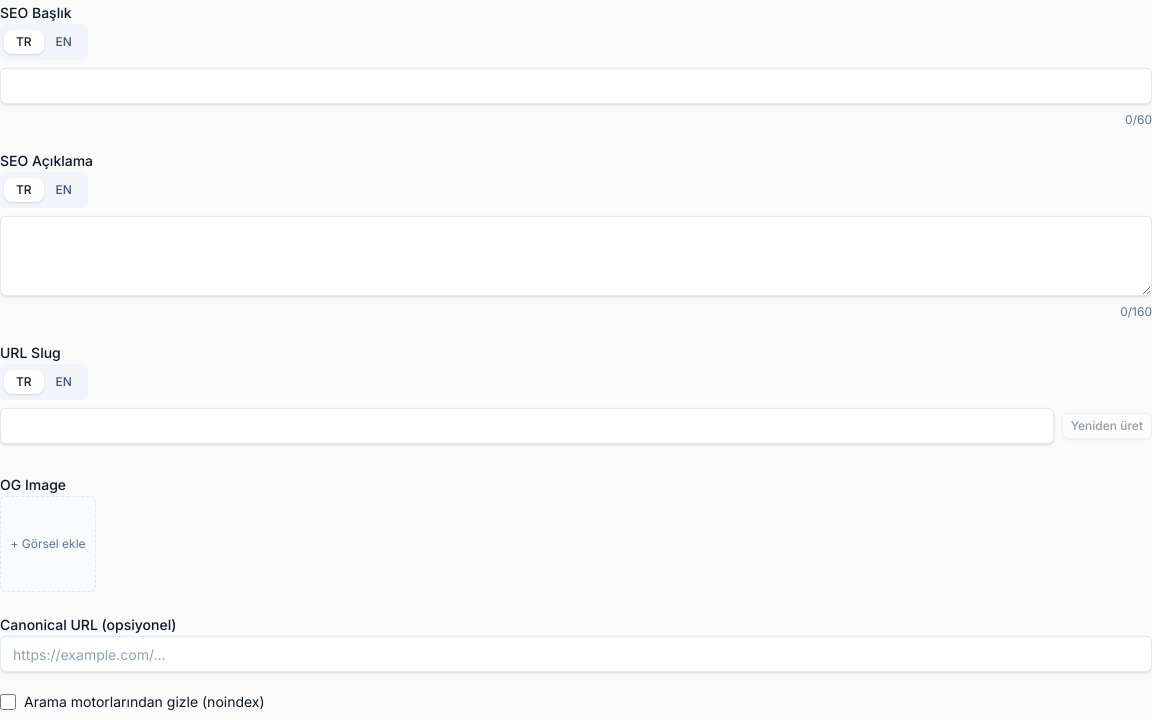
Scenario: SeoFields › 6. Noindex toggle → value update
Click the checkbox labelled "Arama motorlarından gizle (noindex)" at coordinates (8, 702), box [0,694,16,710]
(page scrolled)
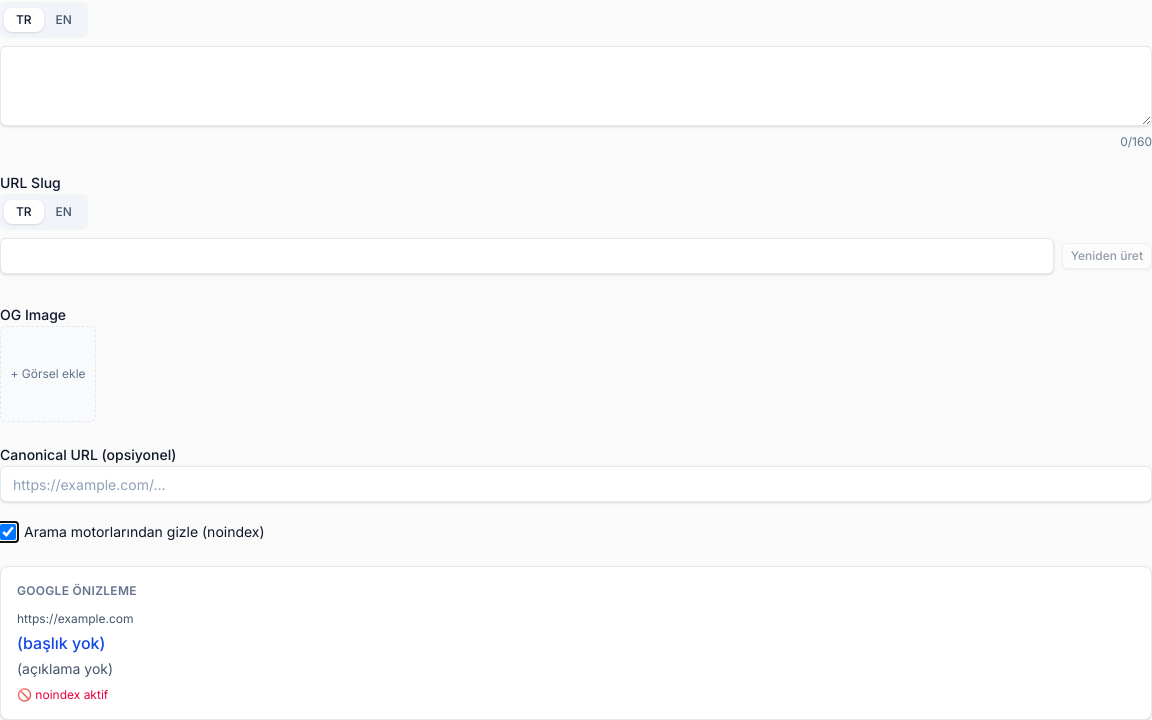
Now the checkbox labelled "Arama motorlarından gizle (noindex)" is checked, box [0,524,16,540]
Now the element named "Google arama önizleme" shows "noindex aktif", box [17,687,108,702]
